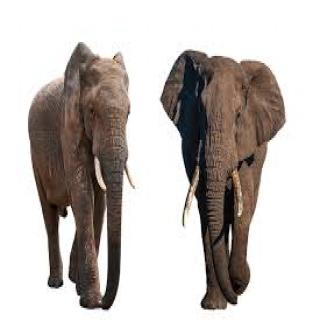Elephant: (158, 49, 286, 311), (23, 40, 141, 313)
